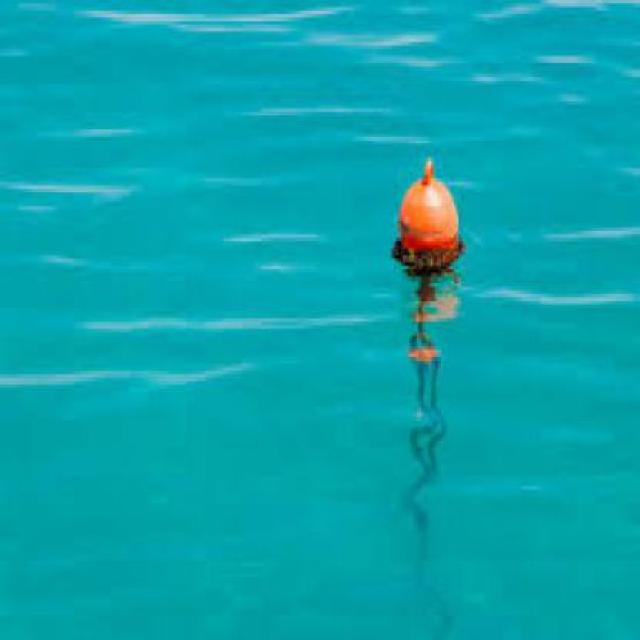buoy: (387, 137, 472, 302)
